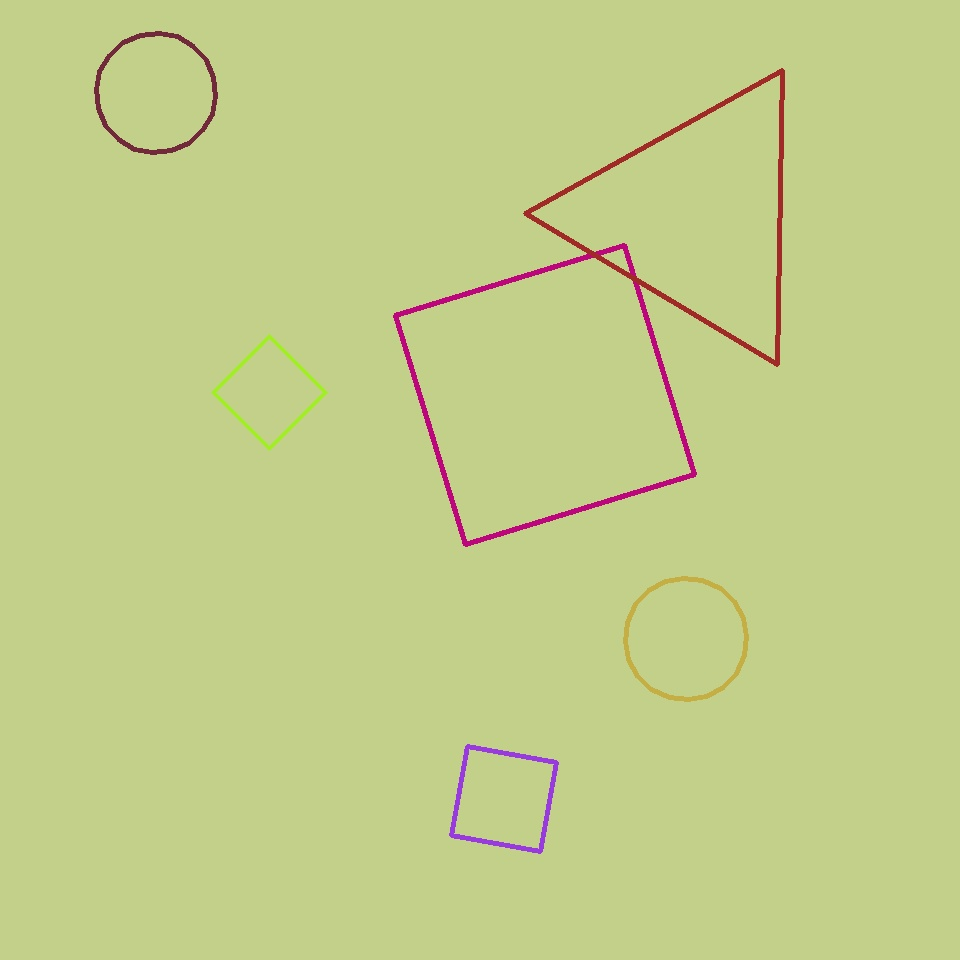circle: (566, 69, 824, 363)
square: (396, 246, 695, 544), (213, 336, 325, 448), (452, 746, 556, 852)
triangle: (626, 578, 746, 700), (96, 34, 216, 153)
